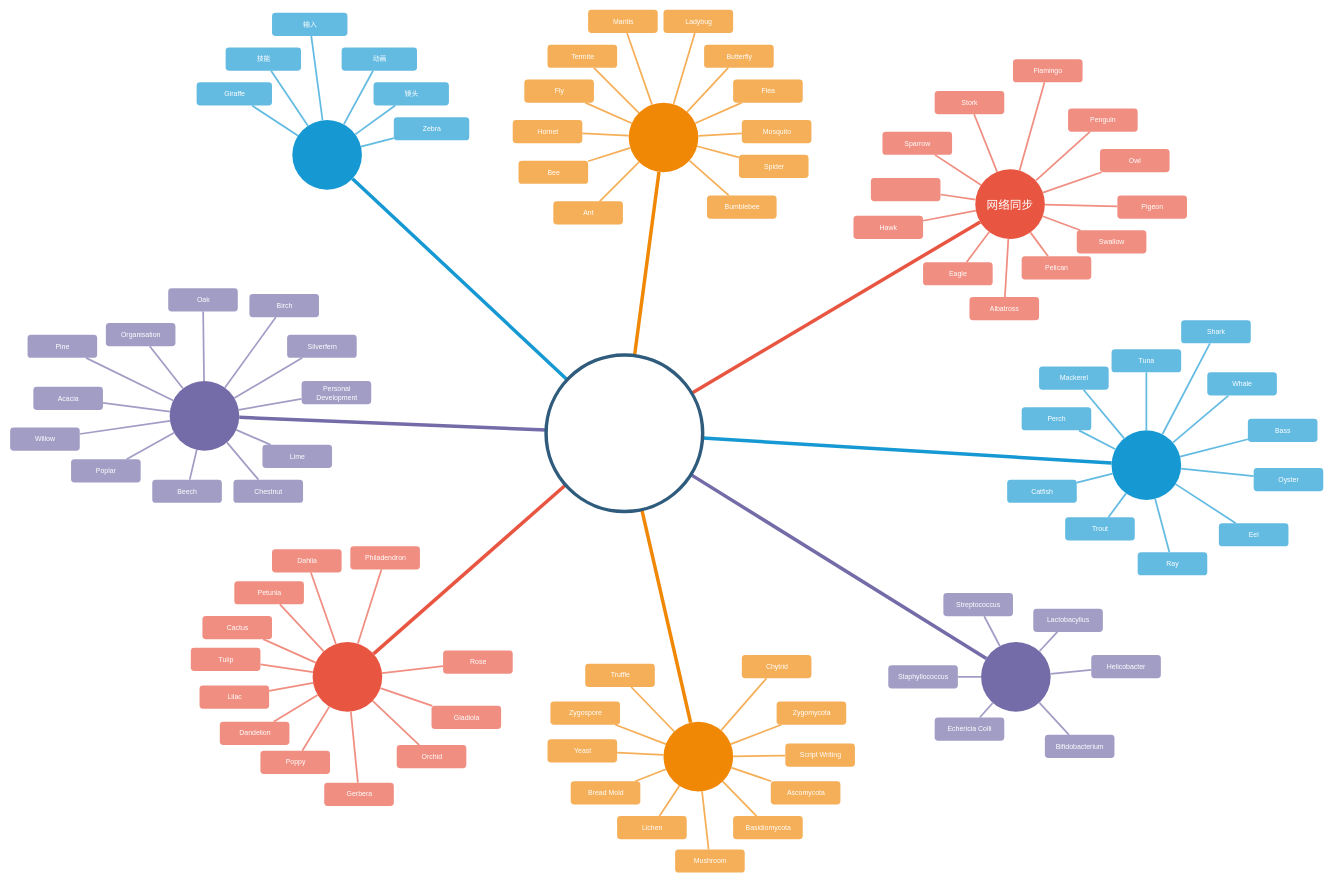
Image size: 1333x883. Some labels were removed from this diagram. Here are the shapes that lost their labels. From the top down, the box of each, then its label:
(292, 120, 362, 189): 3C
(628, 102, 698, 172): 模式
(871, 178, 940, 201): Falcon
(169, 381, 239, 450): 性能优化
(544, 353, 704, 513): GamePlay
(1111, 430, 1181, 500): AI
(312, 642, 382, 711): Flower
(981, 642, 1050, 711): Bacteria
(663, 722, 733, 791): Fungi
